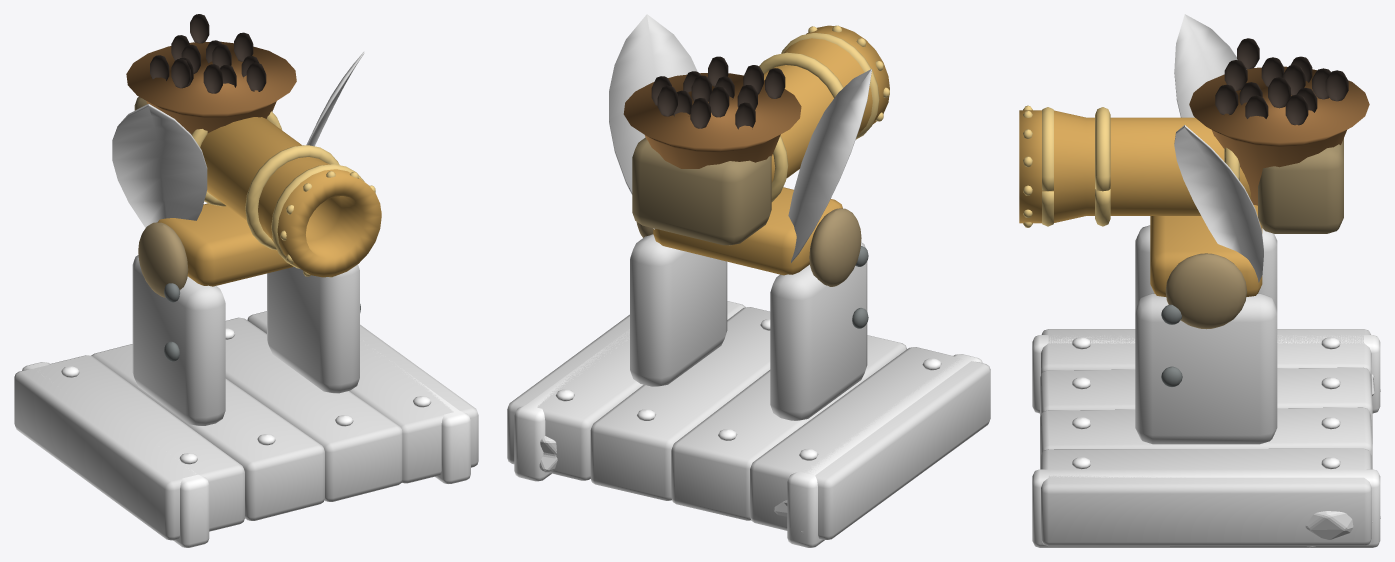
File: seed-1.fbx
The picture shows the model from 3 angles, left to right: view 1: azimuth 30°, elevation 25°; view 2: azimuth 150°, elevation 25°; view 3: azimuth 270°, elevation 25°; orthographic projection. The views are drawn at different scales.
Parts seen in each view (by area): view 1: Base_Bark, Turret_Bark, Barrel_Metal, Turret_Organic, Turret_Metal, Petals_Leaf, Base_Metal; view 2: Base_Bark, Turret_Bark, Turret_Metal, Turret_Organic, Petals_Leaf, Barrel_Metal, Base_Metal, Base_Stone; view 3: Base_Bark, Turret_Bark, Barrel_Metal, Turret_Metal, Turret_Organic, Petals_Leaf, Base_Metal, Base_Stone.
Part boxes in pixels (x1,y1,x2,y2): Base_Bark: (14,311,478,540); Turret_Bark: (132,255,359,425); Barrel_Metal: (191,111,381,277); Turret_Organic: (126,14,296,134); Turret_Metal: (134,97,381,361); Petals_Leaf: (112,51,364,227); Base_Metal: (22,328,470,547); Base_Bark: (507,301,990,539); Turret_Bark: (630,234,867,420); Turret_Metal: (632,25,889,328); Turret_Organic: (623,56,801,168); Petals_Leaf: (609,14,871,262); Barrel_Metal: (759,25,889,201); Base_Metal: (514,319,982,547); Base_Stone: (539,436,803,534); Base_Bark: (1040,329,1372,546); Turret_Bark: (1135,225,1277,444); Barrel_Metal: (1019,107,1251,226); Turret_Metal: (1023,105,1343,386); Turret_Organic: (1189,38,1369,205); Petals_Leaf: (1174,14,1263,282); Base_Metal: (1032,335,1380,547); Base_Stone: (1305,374,1380,547).
Size of the model in its own units: 89.81 by 107 by 84.04.
